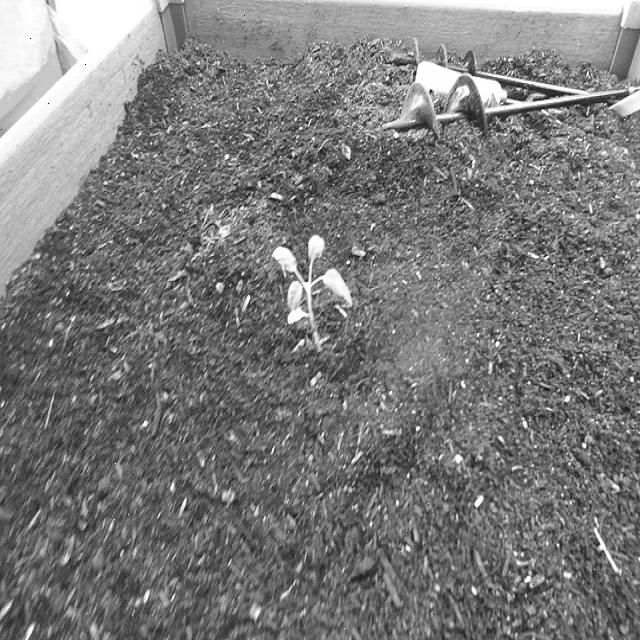Healthy: (269, 225, 357, 369)
